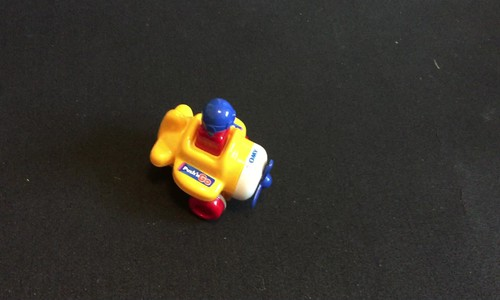toy: (151, 93, 274, 233)
